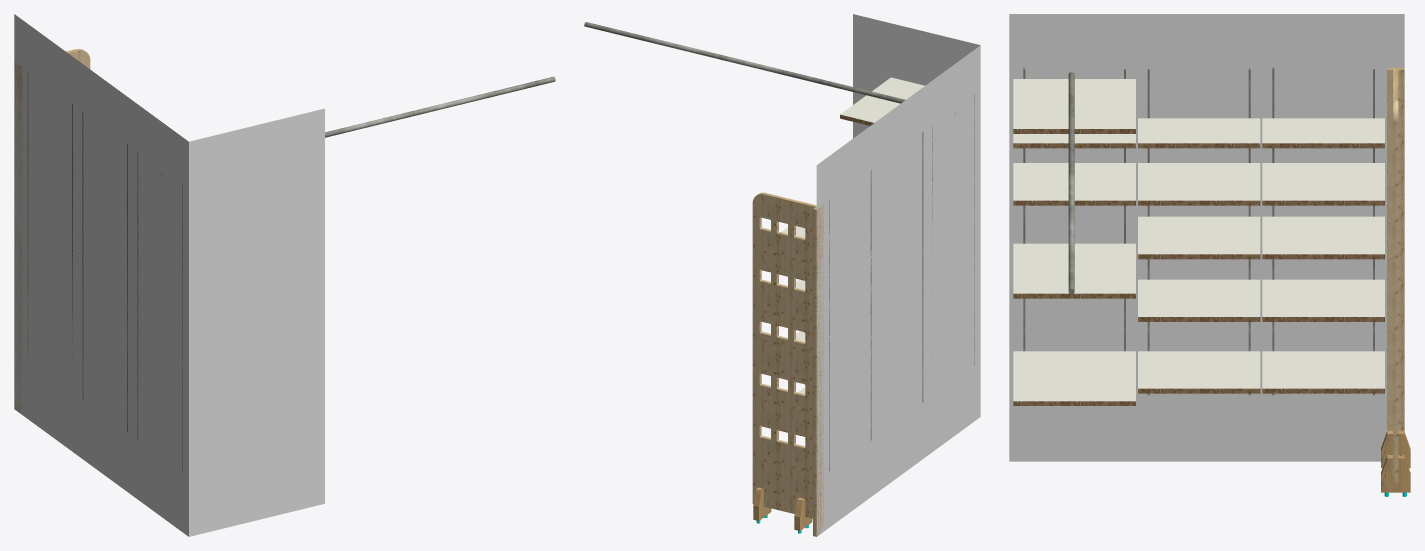
File: partation-1021-150mm.glb
3 renders of one model, left to right at view 1: azimuth 30°, elevation 25°; view 2: azimuth 150°, elevation 25°; view 3: azimuth 270°, elevation 25°, orthographic. The views are drawn at different scales.
Parts seen in each view (by area): view 1: Wall_1, Wall_0, Side-panel-wallplate_0, No Name_0; view 2: Wall_1, Beam_0, Wall_0, Side-panel-wallplate_0, No Name_0, Shelf board_12, Rails_5, Rails_3; view 3: Wall_1, Shelf board_8, Shelf board_11, Shelf board_12, Shelf board_3, Shelf board_4, Shelf board_2, Shelf board_5, Shelf board_6, Shelf board_7, Shelf board_14, Shelf board_1 (+9 smaller).
Boxes of the visible parts, x1=… form: Wall_1: x1=14, y1=14, x2=188, y2=536; Wall_0: x1=189, y1=108, x2=324, y2=536; Side-panel-wallplate_0: x1=14, y1=62, x2=22, y2=402; No Name_0: x1=160, y1=76, x2=555, y2=176; Wall_1: x1=816, y1=45, x2=980, y2=535; Beam_0: x1=752, y1=192, x2=816, y2=518; Wall_0: x1=853, y1=14, x2=980, y2=138; Side-panel-wallplate_0: x1=813, y1=205, x2=823, y2=526; No Name_0: x1=584, y1=22, x2=955, y2=114; Shelf board_12: x1=840, y1=77, x2=924, y2=125; Rails_5: x1=922, y1=132, x2=923, y2=402; Rails_3: x1=870, y1=170, x2=871, y2=440; Wall_1: x1=1009, y1=14, x2=1404, y2=461; Shelf board_8: x1=1013, y1=351, x2=1135, y2=405; Shelf board_11: x1=1013, y1=243, x2=1135, y2=298; Shelf board_12: x1=1013, y1=79, x2=1135, y2=133; Shelf board_3: x1=1262, y1=216, x2=1384, y2=259; Shelf board_4: x1=1138, y1=216, x2=1260, y2=259; Shelf board_2: x1=1138, y1=163, x2=1260, y2=205; Shelf board_5: x1=1262, y1=279, x2=1384, y2=321; Shelf board_6: x1=1262, y1=351, x2=1384, y2=393; Shelf board_7: x1=1262, y1=163, x2=1384, y2=205; Shelf board_14: x1=1138, y1=351, x2=1260, y2=393; Shelf board_1: x1=1138, y1=279, x2=1260, y2=321.
Bounding box in the file's own units: 2.6 × 2.5 × 2.03.
14 materials, 8 textured.
